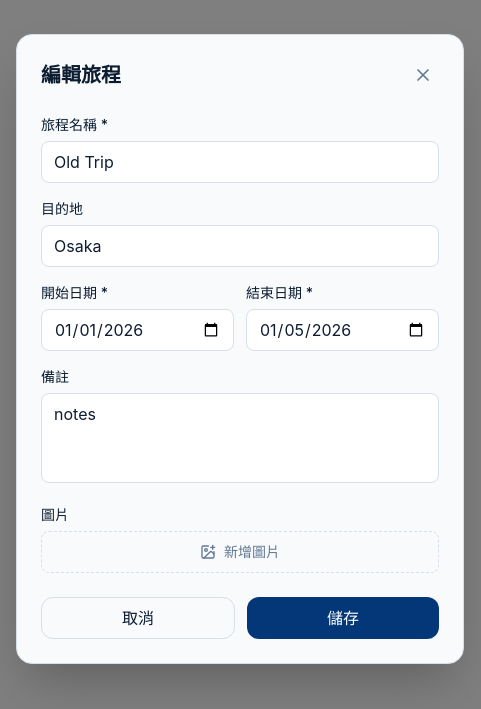
EditTripModal › shows an error and does not update the trip when the travel period is cleared
This screenshot has width=481, height=709.
Clear the date field named "startDate" below "開始日期 *" at {"x": 138, "y": 330}, box [41, 309, 234, 351]
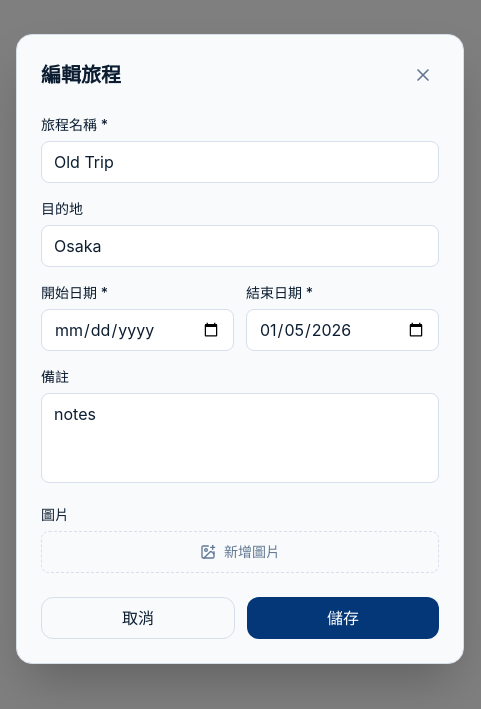
Clear the date field named "endDate" below "結束日期 *" at {"x": 342, "y": 330}, box [246, 309, 439, 351]
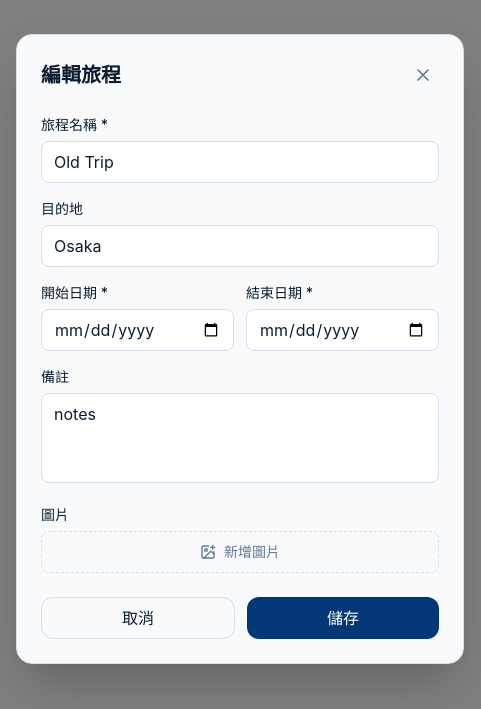
Submit the form
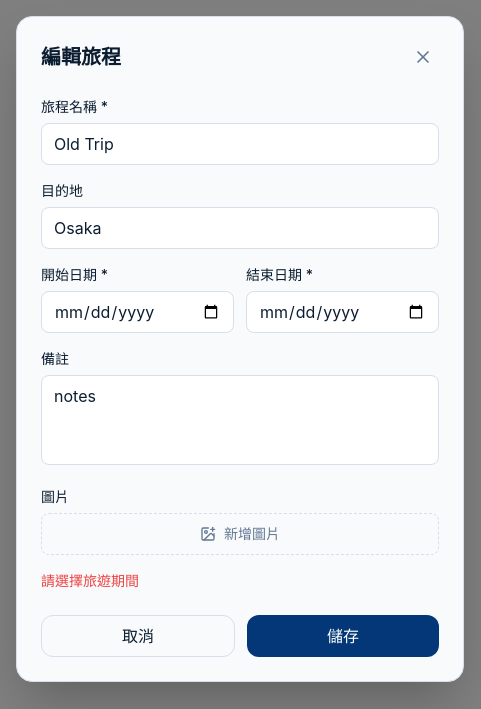
Check: the text "請選擇旅遊期間" is shown, box [41, 572, 139, 589]
